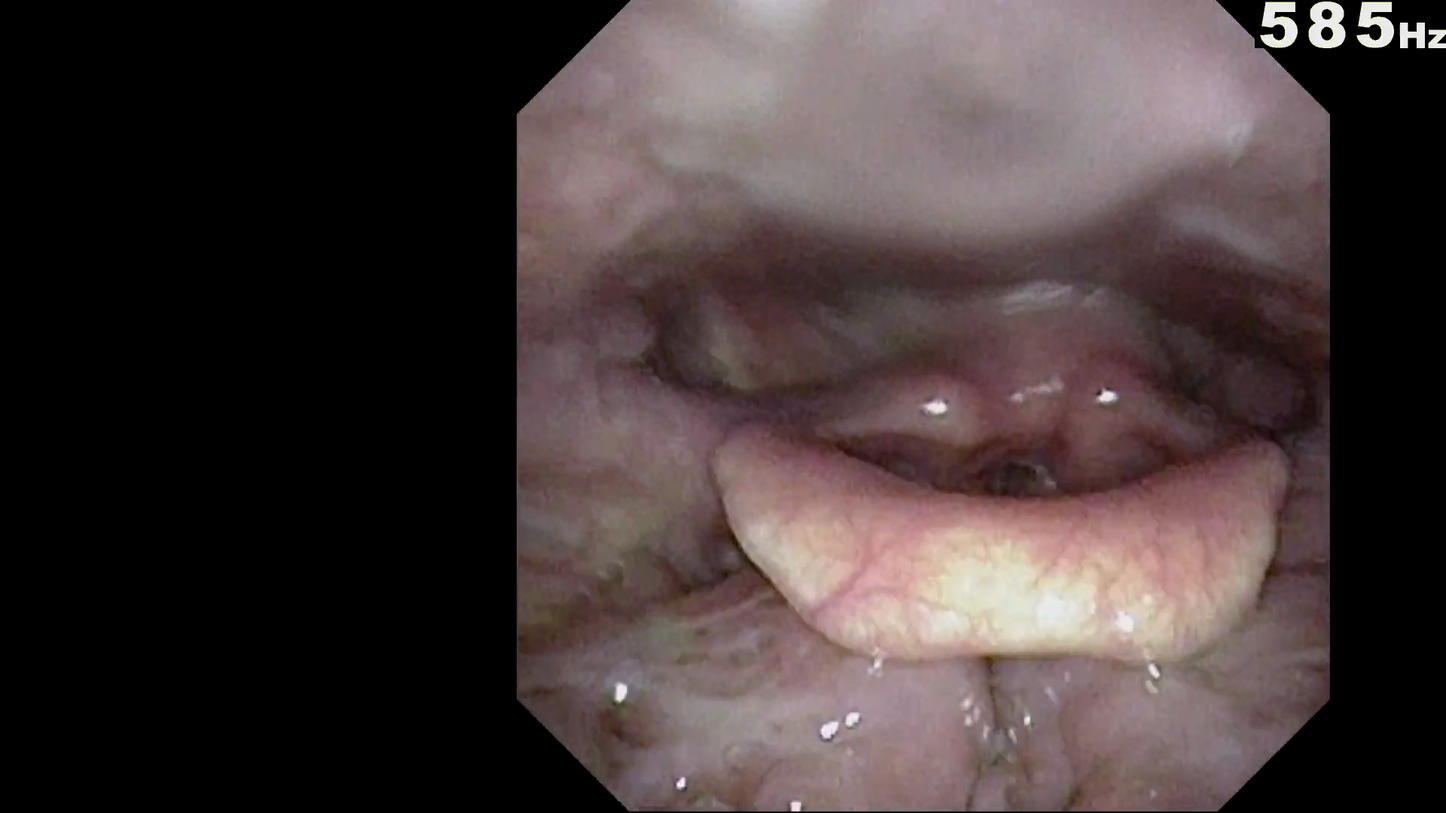epiglottis: (688, 403, 1303, 668)
trachea: (960, 422, 1067, 530)
